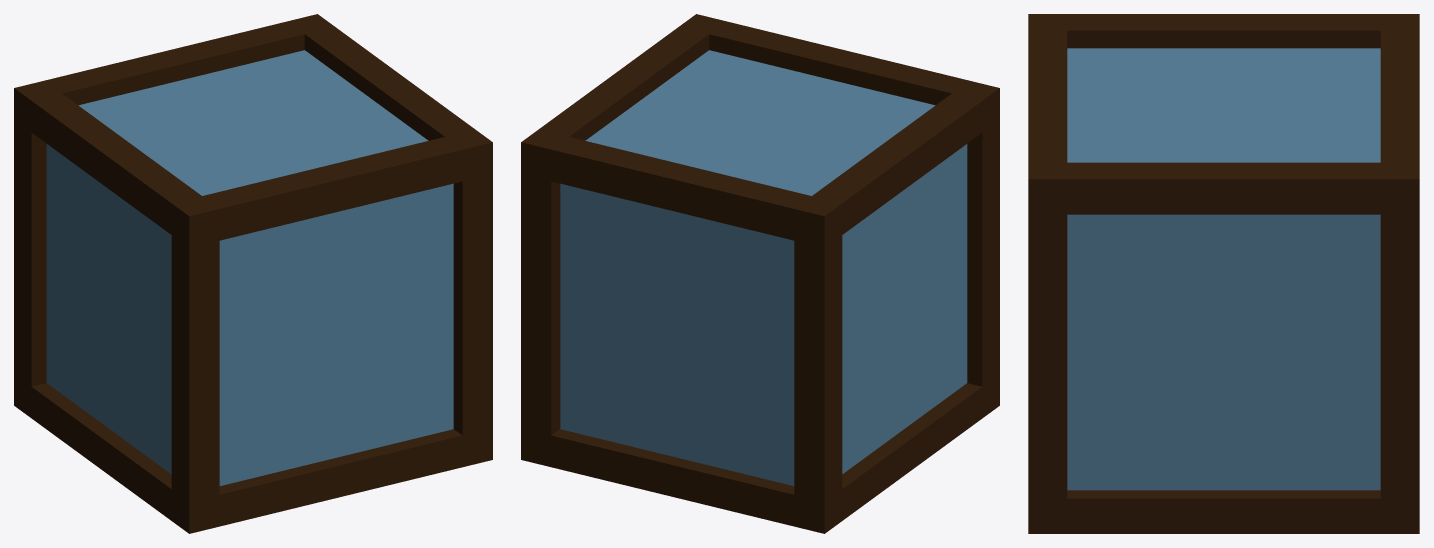
The model's file is icebox.fbx.
3 renders of one model, left to right at view 1: azimuth 30°, elevation 25°; view 2: azimuth 150°, elevation 25°; view 3: azimuth 270°, elevation 25°, orthographic. The views are drawn at different scales.
Parts seen in each view (by area): view 1: Cube; view 2: Cube; view 3: Cube.
Boxes of the visible parts, <box> form: Cube: <box>14,14,492,533</box>; Cube: <box>521,14,999,533</box>; Cube: <box>1028,14,1419,533</box>.
Size of the model in its own units: 200 by 200 by 200.
